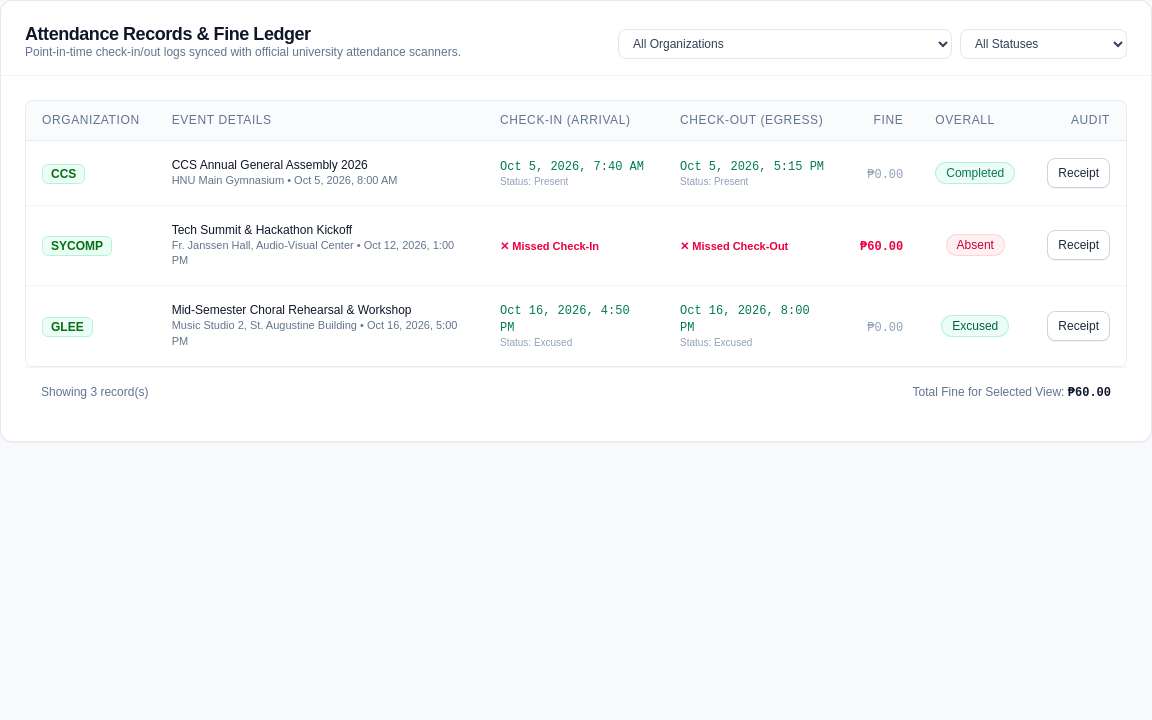
Test: StudentAttendanceTable component › opens receipt detail audit modal on receipt button click
The image size is (1152, 720).
Click the button "Receipt" in the row of "CCS Annual General Assembly 2026" at (1079, 173), box left=1047, top=158, right=1110, bottom=188
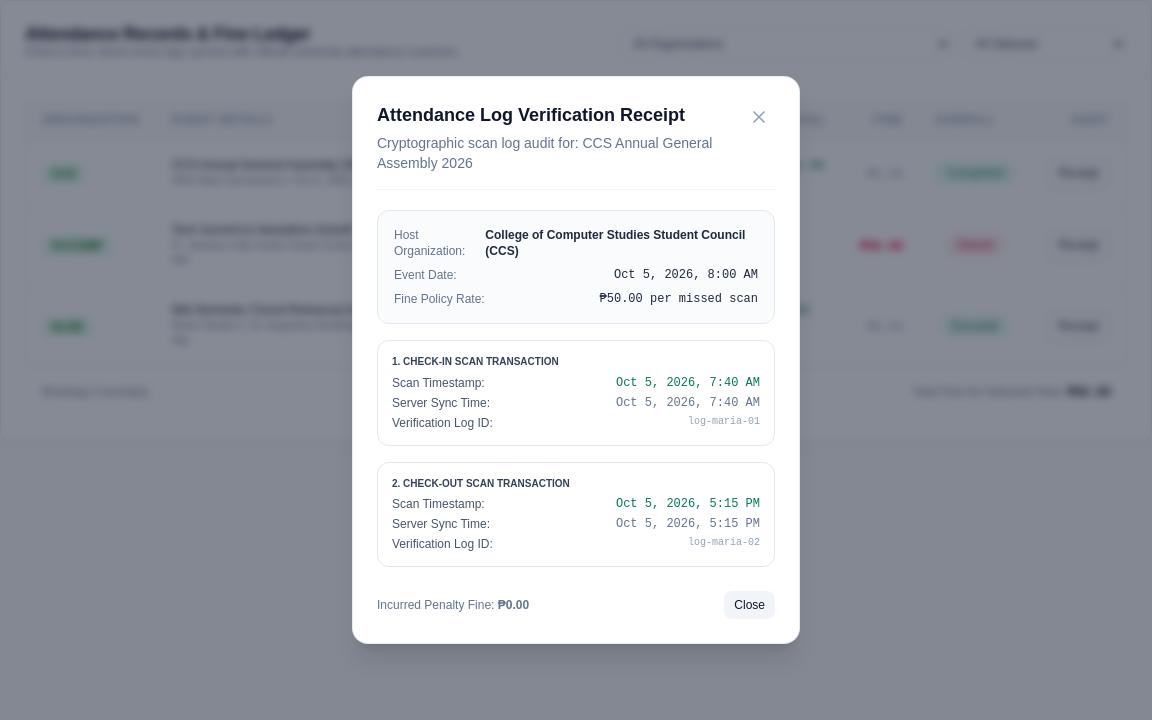
Now the heading "Attendance Log Verification Receipt" is shown, box left=377, top=105, right=685, bottom=125
